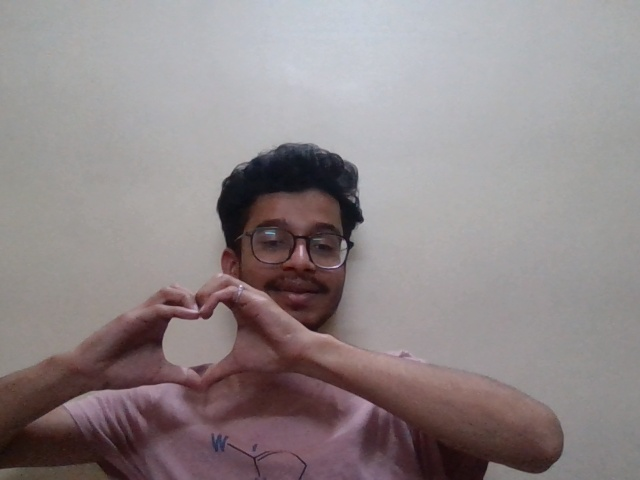silent-voice: (87, 269, 305, 413)
